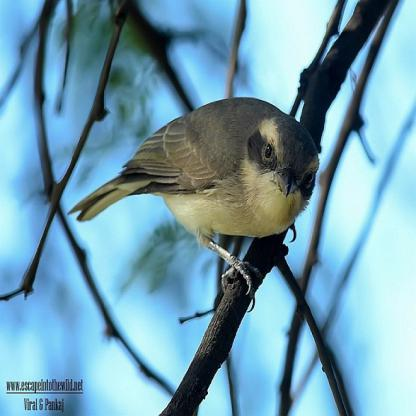Burung: (68, 96, 318, 310)
